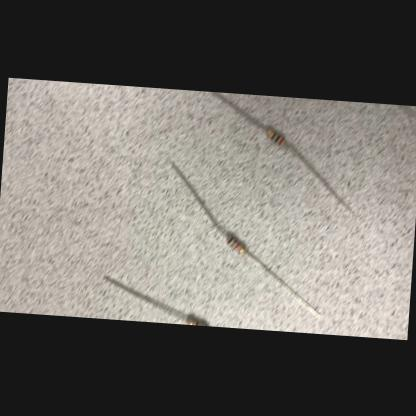resistor: (225, 235, 248, 254), (265, 128, 287, 146), (187, 316, 208, 324)
wire: (284, 141, 360, 214), (243, 251, 325, 316), (166, 160, 231, 238), (101, 274, 190, 322), (210, 92, 268, 132)
